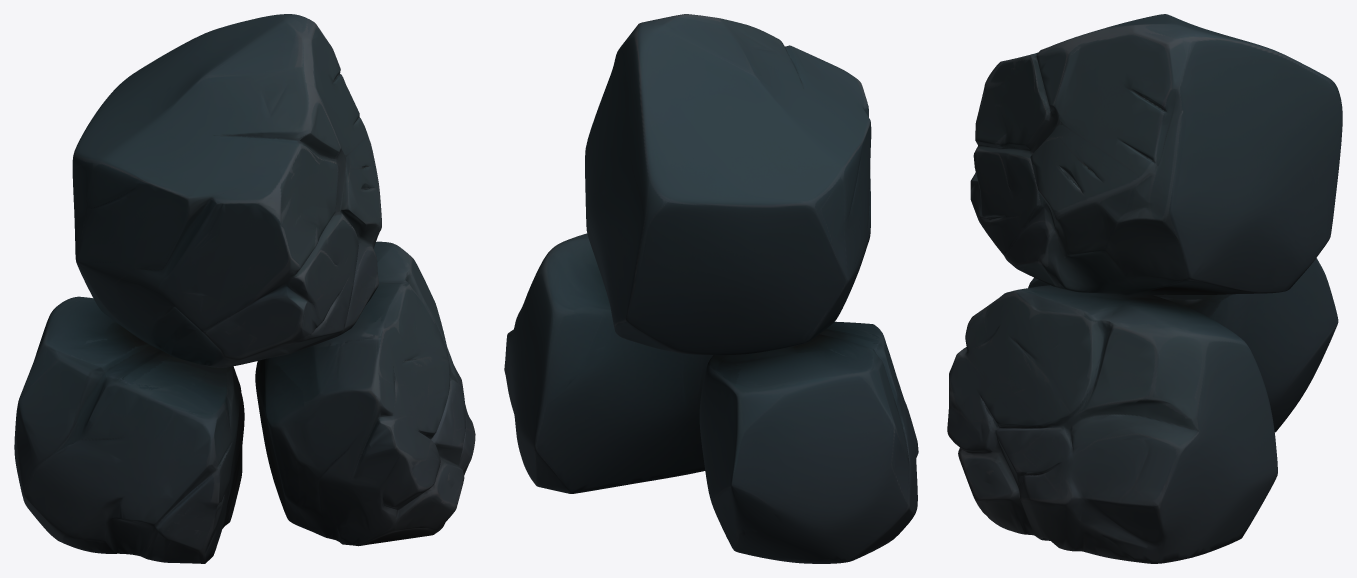
Rendered from jade_rock.glb.
The picture shows the model from 3 angles, left to right: view 1: azimuth 30°, elevation 25°; view 2: azimuth 150°, elevation 25°; view 3: azimuth 270°, elevation 25°; orthographic projection.
Visible parts, largest first — view 1: node_0; view 2: node_0; view 3: node_0.
Boxes of the visible parts, bbox=[...] form: node_0: bbox=[14, 14, 475, 563]; node_0: bbox=[504, 14, 918, 563]; node_0: bbox=[947, 14, 1342, 563].
Bounding box in the file's own units: 2.1 × 2.2 × 1.68.
Materials: 1 (1 with a texture image).
